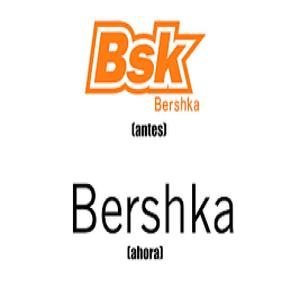bershka: (81, 6, 212, 114), (65, 178, 243, 241)
